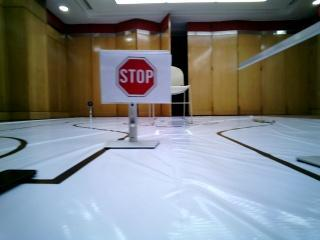stop: (100, 52, 170, 104)
